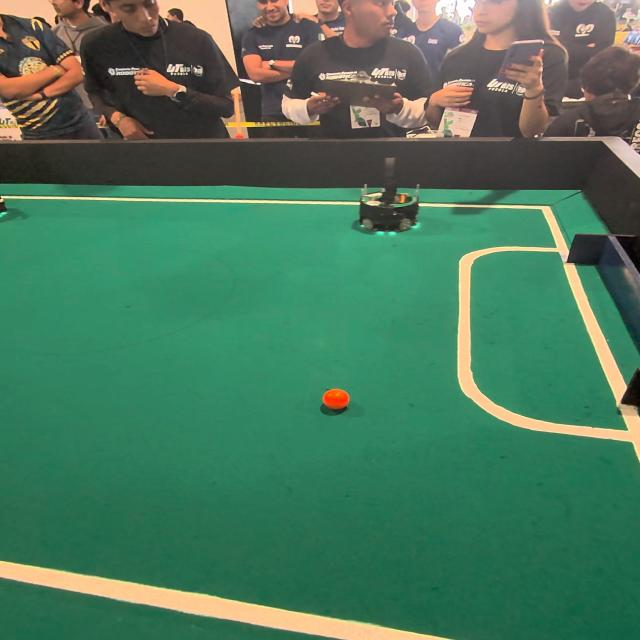Robot: (352, 156, 420, 240), (0, 185, 18, 231)
pelota: (323, 389, 353, 412)
